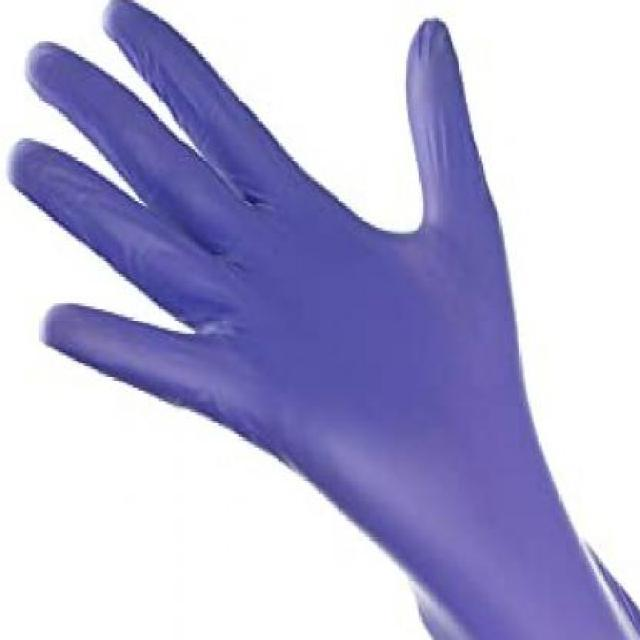gloved_hand: (5, 0, 601, 614)
